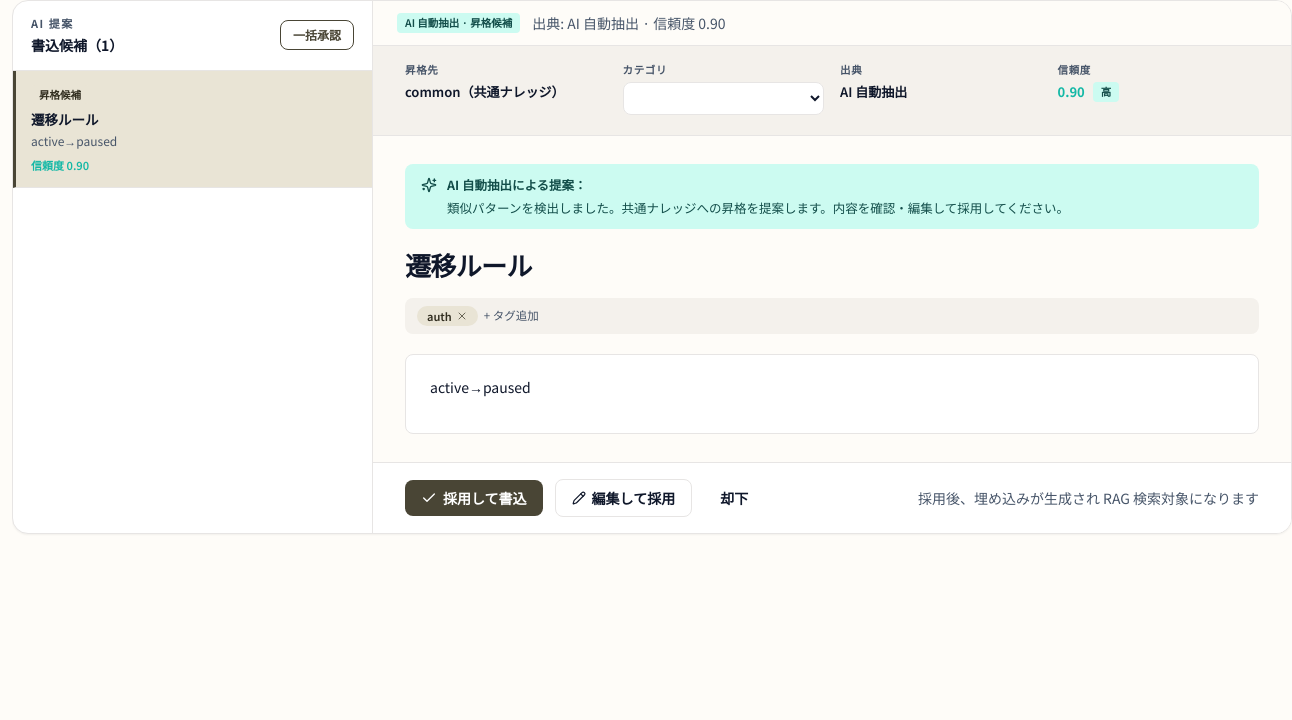
Test: S-K02 PromotionReviewContainer (T-UC-19) › adds and removes tags in the editor
Later steps or results of the test are not shown.
Step 1. Type "oauth" into the field named "タグを追加" → point(865, 316), box [484,307,1247,325]
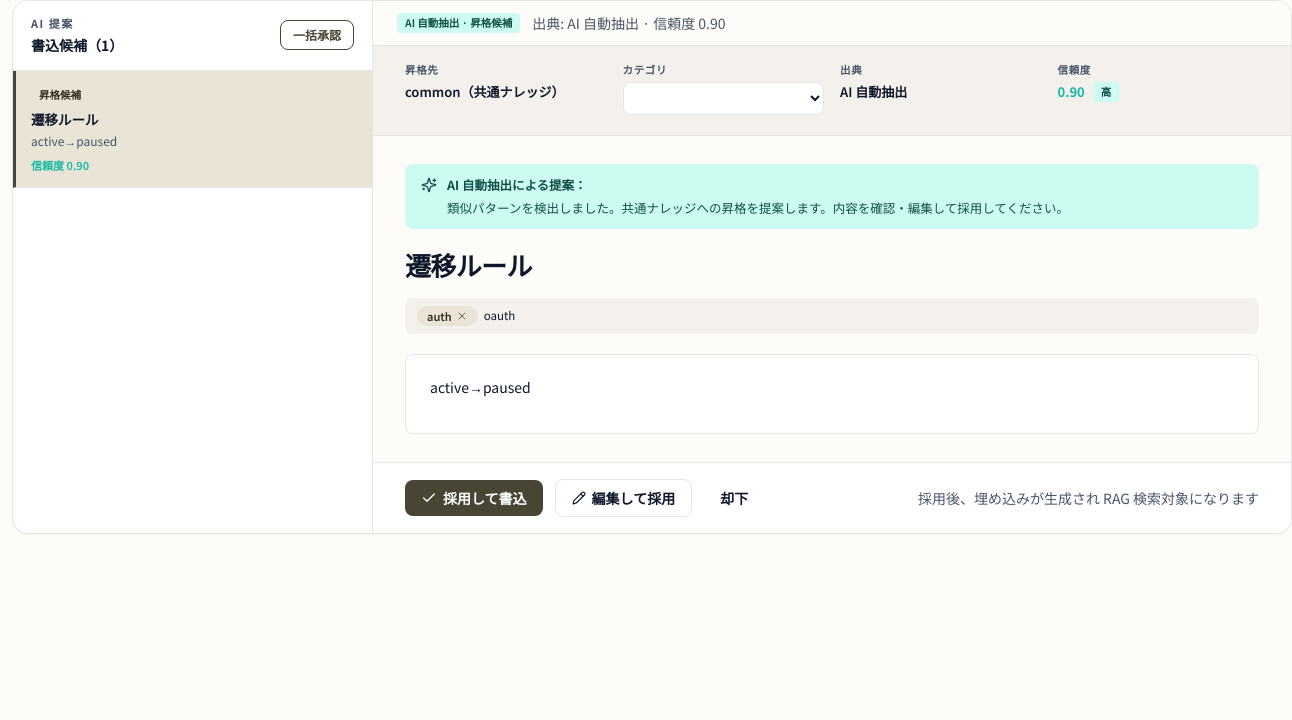
Step 2. Press Enter in the field named "タグを追加", box [484,307,1247,325]
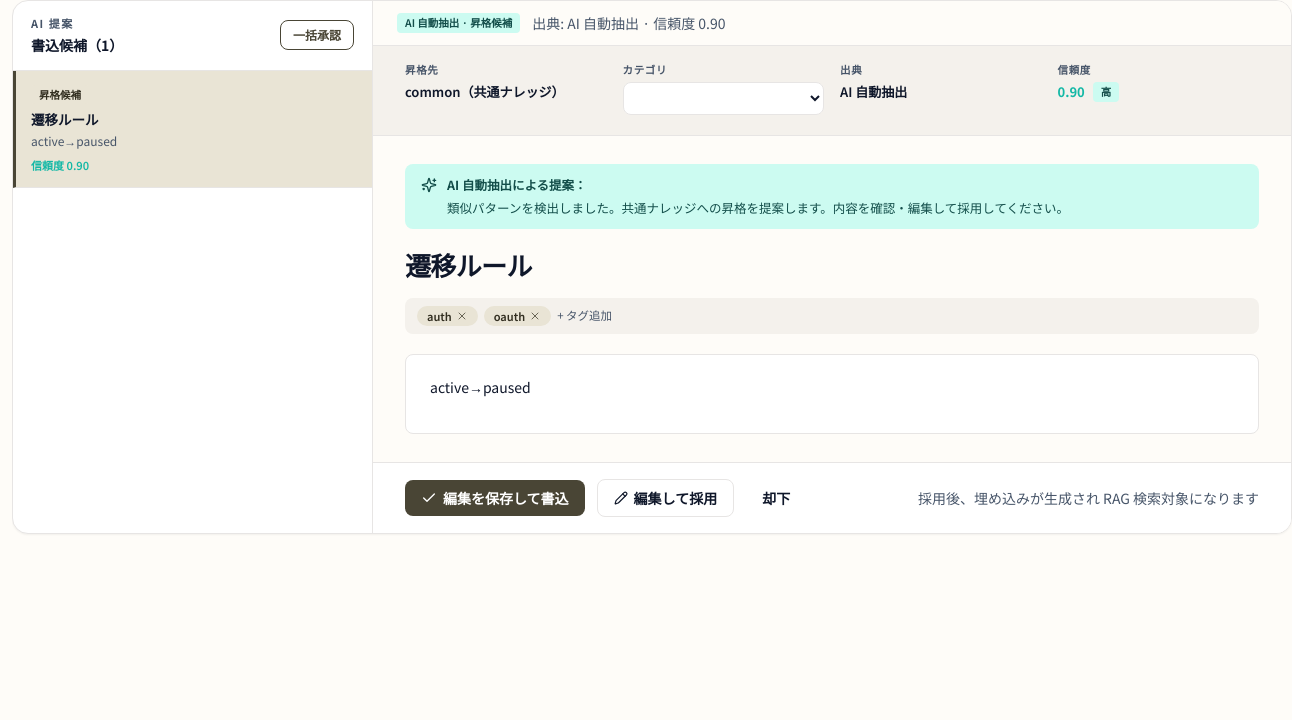
Result: the text "oauth" is shown at [484,306,551,326]
